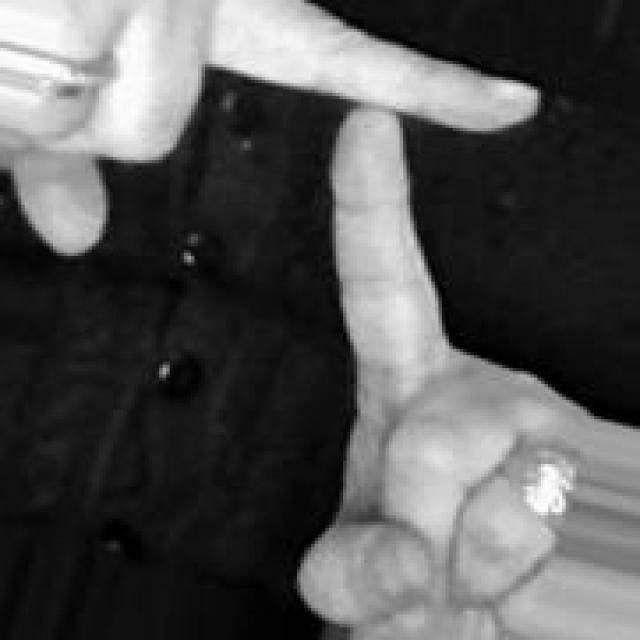T: (2, 0, 608, 640)
